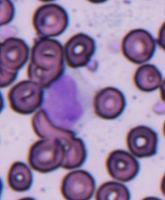M: (43, 73, 89, 129)
